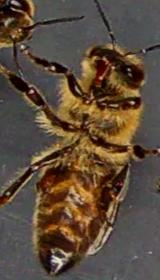varroa_mite: (31, 161, 65, 200)
